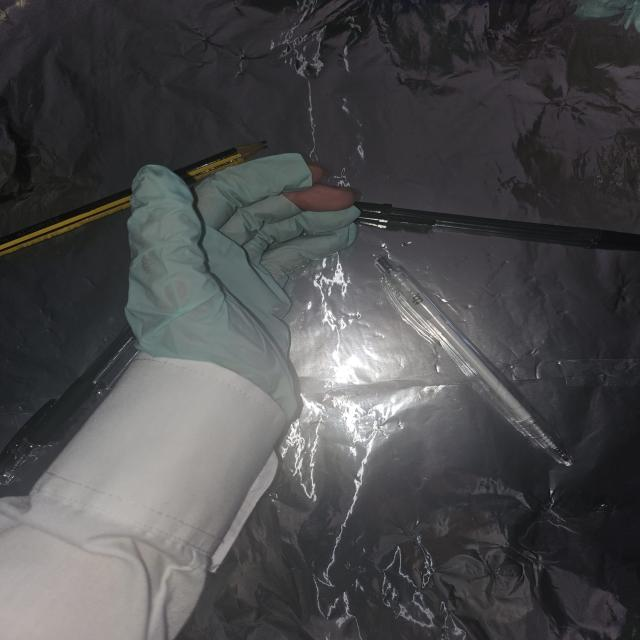gloves_damaged: (122, 149, 362, 426)
